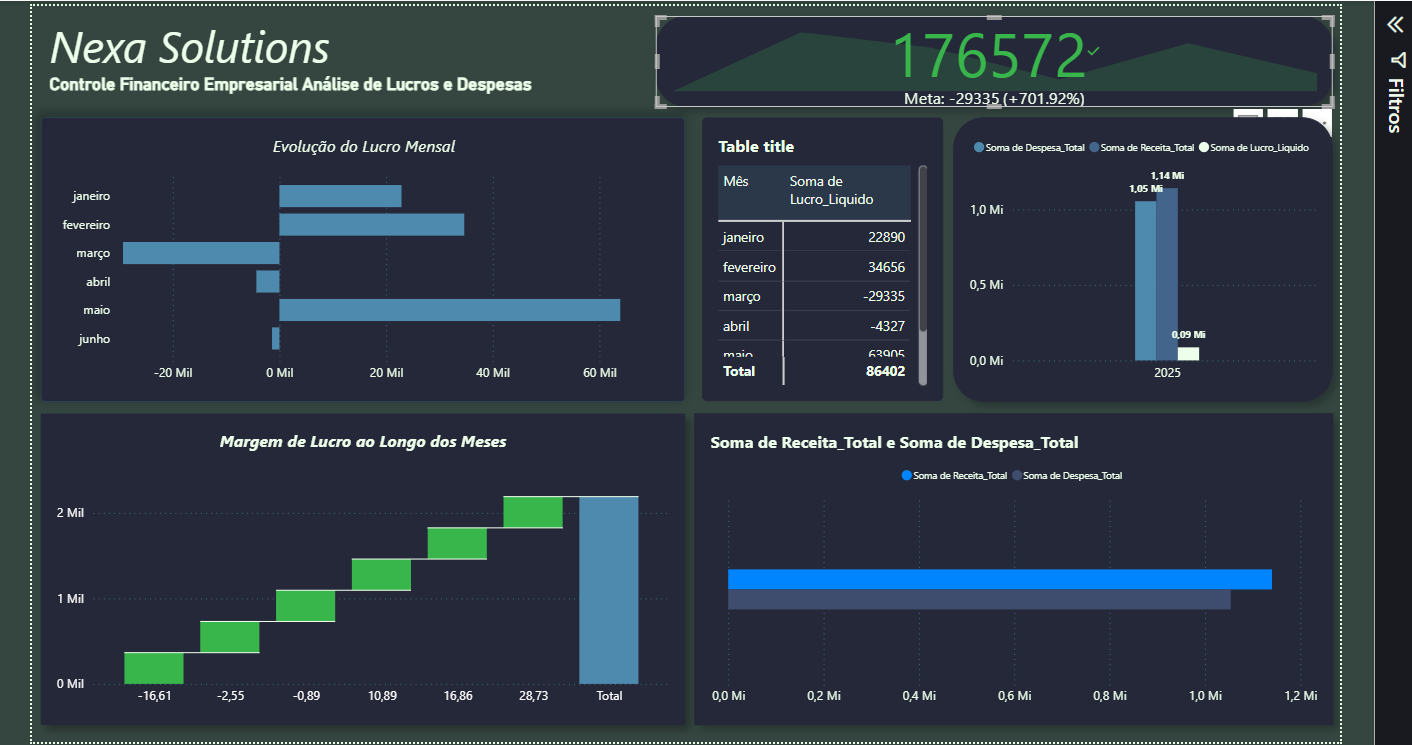

The page's visual inventory and layout, read from the dashboard file:
{"tool":"powerbi","page":{"name":"Página 1","canvas":[1280,720],"ordinal":0},"visuals":[{"type":"barChart","title":"Evolução do Lucro Mensal","fields":{"Category":["Sheet1.Mes_Ano.Variation.Hierarquia de datas.Mês"],"Y":["Sum(Sheet1.Lucro_Liquido)"]},"box":[9.1,108.3,630.7,278.4],"z":0},{"type":"clusteredBarChart","fields":{"Y":["Sum(Sheet1.Receita_Total)","Sum(Sheet1.Despesa_Total)"]},"box":[647.9,398.9,624.6,304.7],"z":1},{"type":"kpi","fields":{"Indicator":["Sum(Sheet1.Receita_Total)"],"TrendLine":["Sheet1.Despesa_Total"],"Goal":["Sum(Sheet1.Lucro_Liquido)"]},"box":[610.4,10.1,662.1,89.1],"z":2},{"type":"waterfallChart","title":"Margem de Lucro ao Longo dos Meses","fields":{"Category":["Sheet1.Margem_Lucro_%"],"Y":["CountNonNull(Sheet1.Mes_Ano.Variation.Hierarquia de datas.Ano)"]},"box":[9.1,398.9,630.7,304.7],"z":3},{"type":"clusteredColumnChart","fields":{"Category":["Sheet1.Mes_Ano.Variation.Hierarquia de datas.Ano"],"Y":["Sum(Sheet1.Despesa_Total)","Sum(Sheet1.Receita_Total)","Sum(Sheet1.Lucro_Liquido)"]},"box":[901,108.3,371.5,278.4],"z":4},{"type":"pivotTable","fields":{"Rows":["Sheet1.Mes_Ano.Variation.Hierarquia de datas.Mês"],"Values":["Sum(Sheet1.Lucro_Liquido)"]},"box":[655,108.3,235.9,277.4],"z":5},{"type":"textbox","box":[17.2,10.1,593.2,89.1],"z":6}]}

Visuals, with their boxes on the page's 1280x720 design canvas (x1, y1, x2, y2). These are canvas units, not pixel positions in the 1412x745 screenshot, which may show the page scaled, cropped or inside an application window:
"Evolução do Lucro Mensal" barChart: bbox(9, 108, 640, 387)
clusteredBarChart - Sum(Sheet1.Receita_Total) x Sum(Sheet1.Despesa_Total): bbox(648, 399, 1272, 704)
kpi - Sum(Sheet1.Receita_Total) x Sheet1.Despesa_Total: bbox(610, 10, 1272, 99)
"Margem de Lucro ao Longo dos Meses" waterfallChart: bbox(9, 399, 640, 704)
clusteredColumnChart - Sheet1.Mes_Ano.Variation.Hierarquia de datas.Ano x Sum(Sheet1.Despesa_Total): bbox(901, 108, 1272, 387)
pivotTable - Sheet1.Mes_Ano.Variation.Hierarquia de datas.Mês x Sum(Sheet1.Lucro_Liquido): bbox(655, 108, 891, 386)
textbox: bbox(17, 10, 610, 99)
